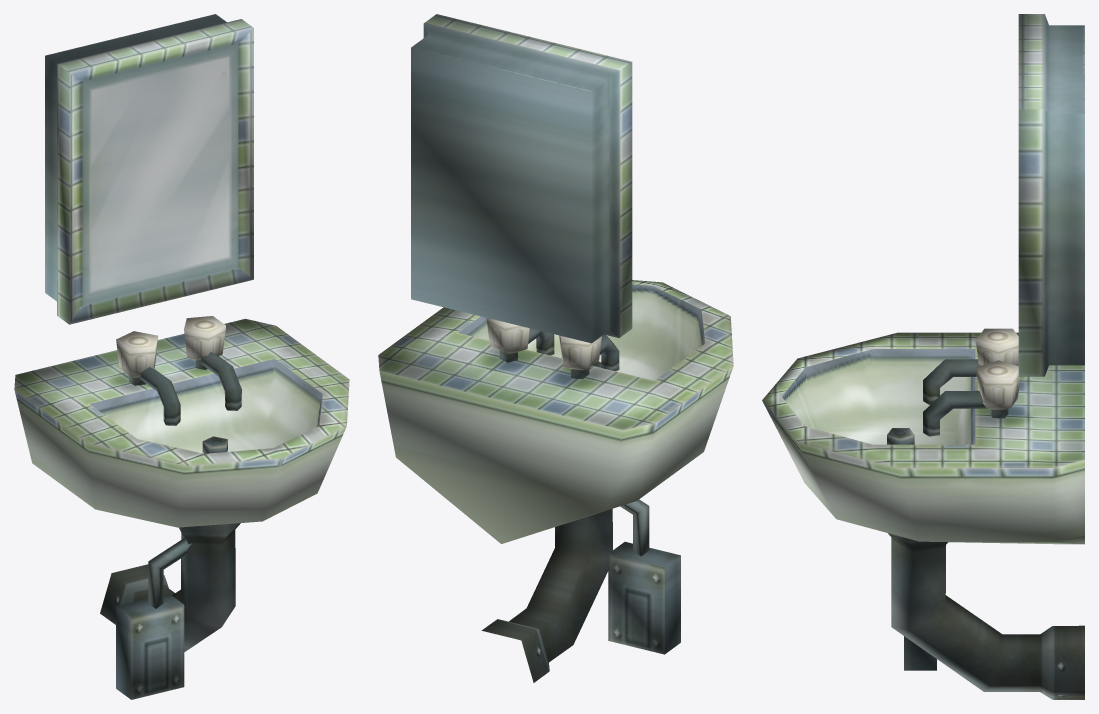
File: a_SWIwater02.glb
3 views of the same model, side by side, from view 1: azimuth 30°, elevation 25°; view 2: azimuth 150°, elevation 25°; view 3: azimuth 270°, elevation 25° (orthographic). The views are drawn at different scales.
Visible parts, largest first — view 1: a_SWIwater02; view 2: a_SWIwater02; view 3: a_SWIwater02.
Part boxes in pixels (x1,y1,x2,y2): a_SWIwater02: (14,14,349,699); a_SWIwater02: (378,14,733,682); a_SWIwater02: (762,14,1084,699).
Bounding box in the file's own units: 0.6782 × 1.49 × 0.6829.
1 material, 1 textured.
